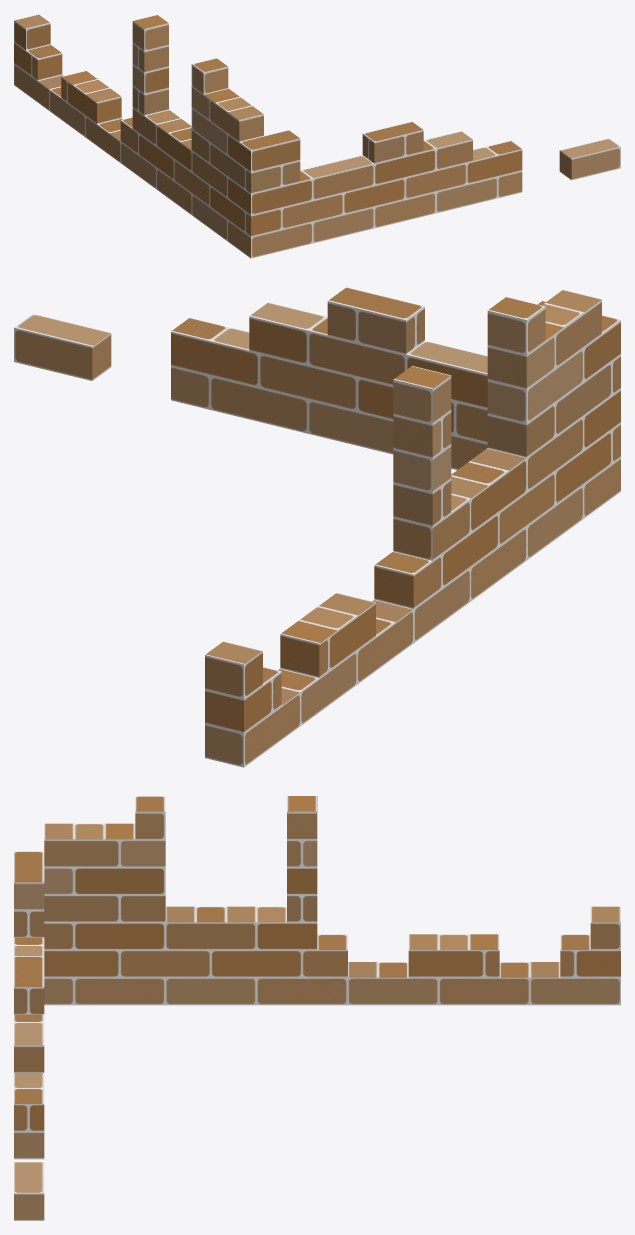
Rendered from brick-ruins-corner-b.fbx.
The picture shows the model from 3 angles, top to bottom: view 1: azimuth 30°, elevation 25°; view 2: azimuth 150°, elevation 25°; view 3: azimuth 270°, elevation 25°; orthographic projection. The views are drawn at different scales.
Parts seen in each view (by area): view 1: brick-ruins-corner-b; view 2: brick-ruins-corner-b; view 3: brick-ruins-corner-b.
Part boxes in pixels (x1,y1,x2,y2): brick-ruins-corner-b: (14, 14, 620, 258); brick-ruins-corner-b: (14, 287, 620, 767); brick-ruins-corner-b: (14, 796, 620, 1220).
Size of the model in its own units: 300 by 117 by 333.
1 material, 1 textured.
